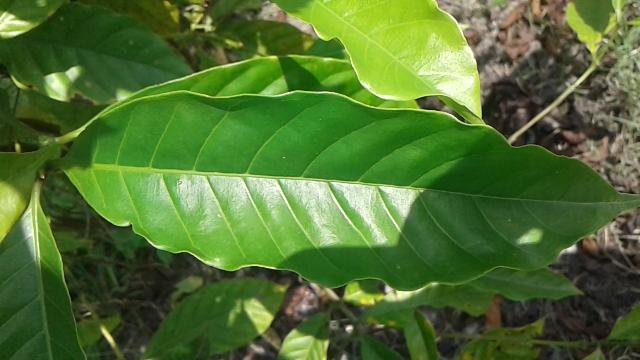healthy: (60, 90, 640, 292)
